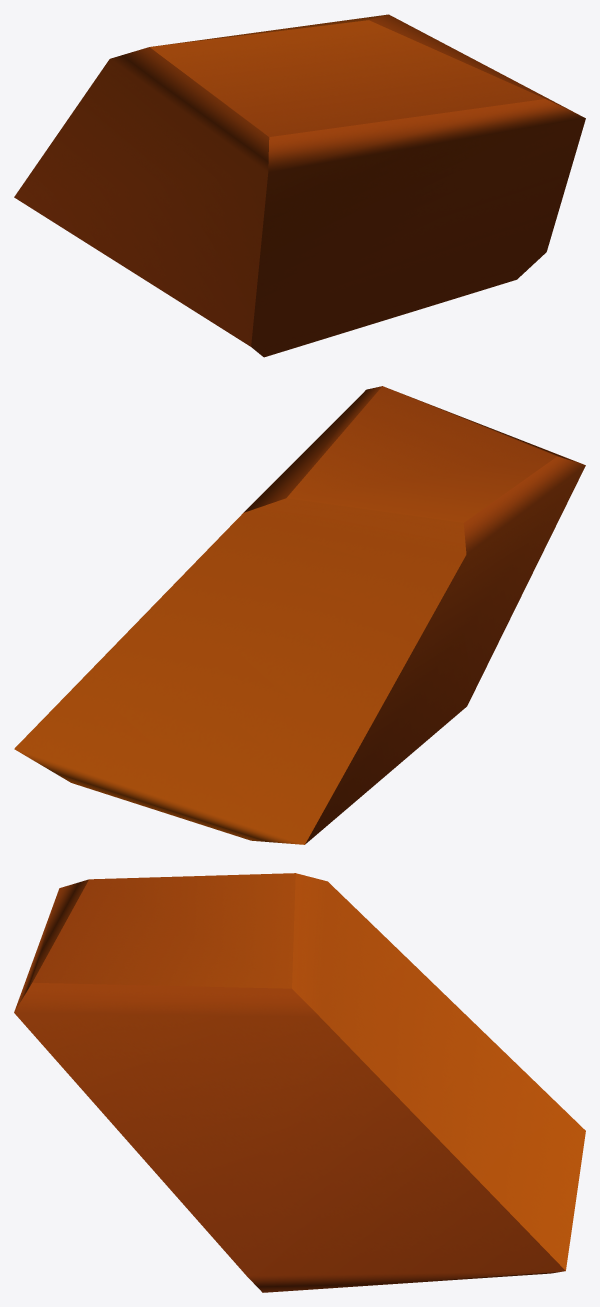
The model's file is Desert_SmallRock05.fbx.
3 views of the same model, one above another, from view 1: azimuth 30°, elevation 25°; view 2: azimuth 150°, elevation 25°; view 3: azimuth 270°, elevation 25° (orthographic). The views are drawn at different scales.
Visible parts, largest first — view 1: Desert_SmallRock01:pCube2; view 2: Desert_SmallRock01:pCube2; view 3: Desert_SmallRock01:pCube2.
Part boxes in pixels (x1,y1,x2,y2): Desert_SmallRock01:pCube2: (14,14,585,357); Desert_SmallRock01:pCube2: (14,386,585,844); Desert_SmallRock01:pCube2: (14,873,585,1292).
Bounding box in the file's own units: 1.44 × 1.01 × 1.95.
1 material, 1 textured.
